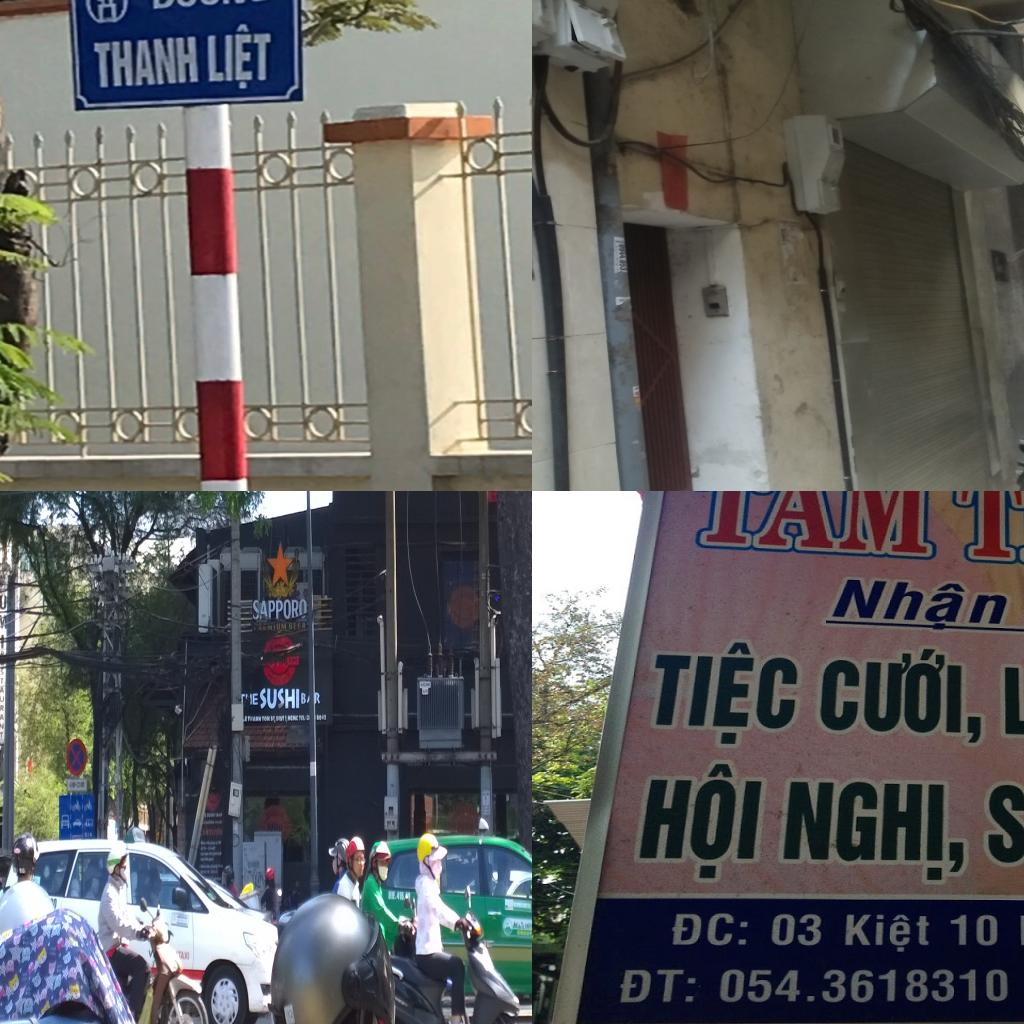text: (768, 770, 976, 896), (638, 628, 807, 749), (622, 752, 768, 887), (812, 642, 987, 749), (676, 491, 942, 559), (812, 571, 1018, 641), (711, 966, 1016, 1008), (90, 34, 202, 90), (841, 907, 936, 956), (979, 772, 1024, 870), (605, 964, 699, 1007), (666, 908, 753, 950), (991, 646, 1024, 743), (765, 907, 826, 950), (948, 910, 1002, 951), (145, 0, 272, 13), (252, 599, 307, 621), (260, 687, 300, 710), (0, 594, 7, 651), (0, 669, 5, 740), (618, 244, 628, 271), (388, 891, 406, 902), (512, 921, 532, 930), (288, 622, 307, 631), (209, 827, 223, 837), (178, 951, 190, 961), (276, 622, 287, 631), (252, 692, 259, 706), (517, 930, 532, 936), (300, 691, 306, 705), (314, 692, 321, 704), (248, 716, 262, 722), (288, 714, 298, 722), (316, 714, 327, 721), (77, 781, 85, 788), (270, 715, 276, 724), (276, 716, 285, 722), (148, 950, 154, 958), (262, 716, 270, 722), (299, 715, 307, 721), (284, 714, 288, 724), (72, 782, 78, 788), (306, 714, 310, 722), (69, 782, 72, 788), (245, 716, 248, 722)
